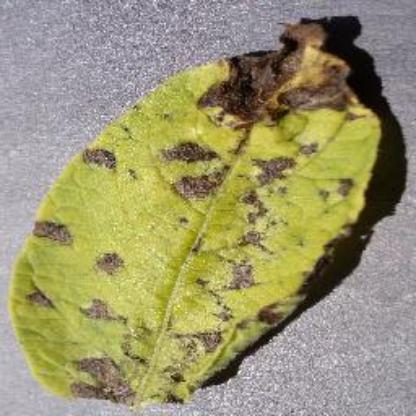Early-Blight: (9, 11, 403, 415)
